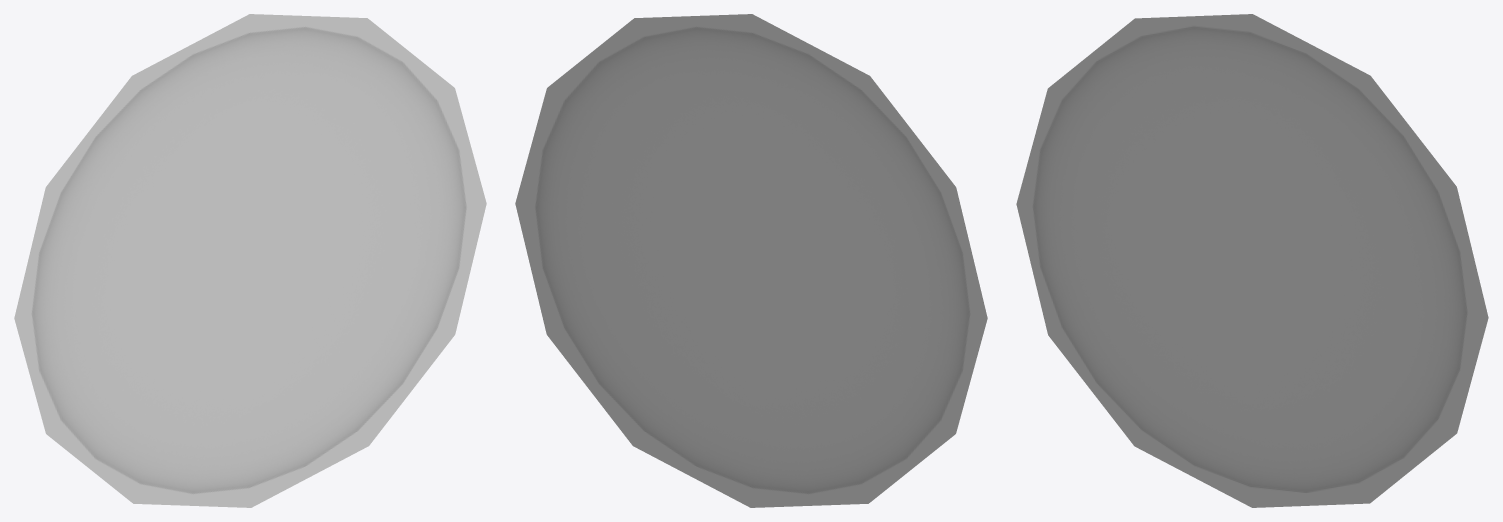
Rendered from Glass_Round.FBX.
3 renders of one model, left to right at view 1: azimuth 30°, elevation 25°; view 2: azimuth 150°, elevation 25°; view 3: azimuth 330°, elevation 25°, orthographic.
Visible parts, largest first — view 1: Glass_Round; view 2: Glass_Round; view 3: Glass_Round.
Boxes of the visible parts, x1,y1,x2,y2 form: Glass_Round: (14,14,486,507); Glass_Round: (515,14,987,507); Glass_Round: (1016,14,1488,507).
Size of the model in its own units: 264 by 264 by 1.01.
